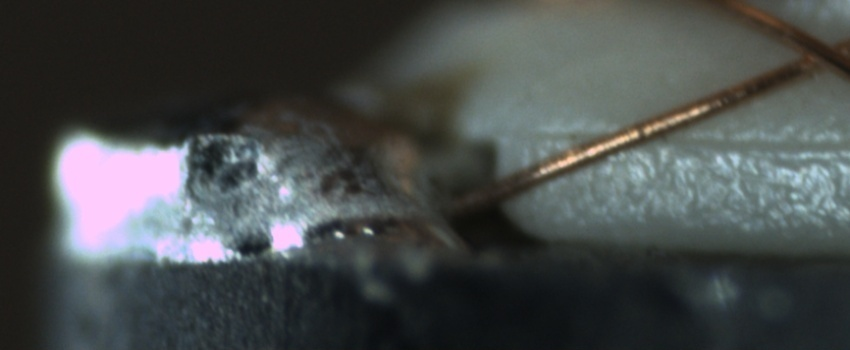CL: (772, 21, 848, 80)
DL: (531, 112, 848, 171)
